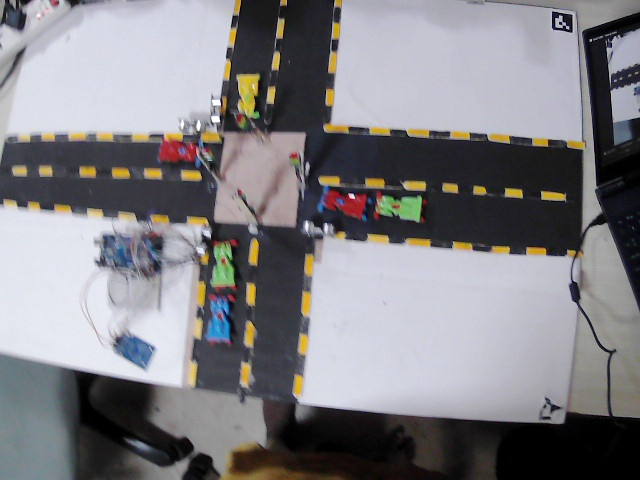aruco_marker: (548, 8, 578, 35), (537, 399, 567, 423)
black_strip: (189, 335, 205, 359), (521, 186, 541, 204), (53, 163, 77, 178), (301, 273, 317, 293), (420, 180, 439, 194), (162, 166, 181, 180), (345, 228, 365, 241), (53, 131, 69, 147), (266, 38, 280, 56), (293, 353, 305, 373), (71, 204, 92, 215), (507, 136, 530, 146), (222, 76, 231, 101), (327, 40, 340, 57), (383, 235, 402, 246), (146, 133, 165, 144), (386, 178, 406, 188), (111, 133, 133, 142), (196, 264, 207, 282), (167, 214, 185, 225), (268, 77, 280, 93), (470, 240, 491, 249), (297, 318, 311, 331), (339, 175, 357, 185), (300, 241, 315, 253), (243, 305, 253, 323), (392, 131, 411, 140), (431, 238, 452, 246), (95, 165, 109, 177), (453, 184, 468, 195), (326, 74, 337, 89), (187, 132, 203, 142), (241, 345, 251, 361), (249, 269, 258, 286), (429, 130, 448, 138), (548, 140, 567, 148), (489, 186, 504, 196), (129, 165, 144, 175), (137, 213, 152, 223), (467, 132, 485, 140), (224, 46, 235, 59), (348, 132, 371, 138), (27, 164, 38, 176), (40, 201, 53, 211), (232, 16, 243, 27), (510, 242, 522, 252), (547, 246, 562, 254), (8, 134, 20, 144), (240, 388, 249, 401), (332, 8, 340, 22), (30, 132, 38, 146), (103, 210, 117, 218), (86, 132, 96, 143), (324, 101, 333, 113), (278, 5, 286, 18), (266, 112, 276, 121), (1, 165, 11, 174), (17, 200, 28, 208), (566, 192, 578, 199), (197, 306, 204, 318), (324, 128, 331, 137)
car: (315, 184, 373, 223), (370, 190, 428, 225), (203, 293, 239, 346), (227, 70, 263, 122), (208, 237, 239, 293), (160, 137, 203, 169)
mixed_lane: (332, 226, 583, 258), (319, 175, 578, 204), (0, 196, 211, 229), (330, 125, 588, 151), (0, 159, 206, 187), (237, 238, 265, 403), (291, 237, 317, 393), (3, 129, 193, 147), (187, 251, 211, 388), (322, 2, 345, 141), (264, 0, 288, 124), (219, 0, 244, 112)
traffic_light: (231, 186, 255, 226), (191, 144, 220, 177), (236, 115, 263, 148), (289, 148, 305, 188)
uno_breadboard: (94, 229, 165, 308), (106, 331, 159, 366), (191, 224, 216, 258), (300, 221, 334, 239), (206, 95, 224, 128), (176, 116, 206, 134)
yellow_strip: (326, 53, 344, 78), (298, 293, 311, 319), (303, 254, 315, 280), (295, 334, 311, 353), (181, 169, 202, 183), (220, 59, 235, 78), (187, 359, 197, 387), (405, 237, 430, 248), (195, 283, 208, 304), (367, 231, 387, 244), (271, 16, 282, 39), (359, 179, 387, 188), (116, 208, 135, 221), (67, 128, 85, 141), (143, 168, 162, 180), (328, 26, 344, 40), (324, 93, 338, 109), (525, 242, 547, 252), (108, 166, 128, 177), (266, 57, 278, 75), (371, 131, 392, 141), (489, 135, 510, 145), (165, 132, 186, 142), (250, 240, 258, 266), (188, 213, 208, 223), (242, 324, 253, 342), (53, 202, 71, 213), (38, 163, 51, 178), (245, 284, 254, 305), (470, 182, 487, 193), (193, 320, 204, 337), (77, 167, 94, 177), (14, 164, 27, 177), (531, 136, 545, 148), (544, 191, 565, 199), (440, 184, 454, 196), (19, 133, 33, 145), (405, 179, 420, 190), (411, 128, 429, 137), (455, 242, 471, 252), (98, 132, 111, 144), (41, 132, 53, 145), (451, 130, 470, 138), (151, 211, 166, 221), (242, 364, 249, 385), (505, 188, 521, 197), (493, 244, 508, 253), (266, 98, 279, 108), (330, 227, 344, 236), (28, 199, 39, 210), (228, 30, 236, 45), (133, 134, 146, 143), (3, 198, 16, 207), (568, 142, 580, 151), (297, 373, 303, 391), (200, 250, 209, 262), (90, 206, 102, 215), (233, 2, 241, 14), (564, 250, 577, 255), (339, 131, 349, 137)
